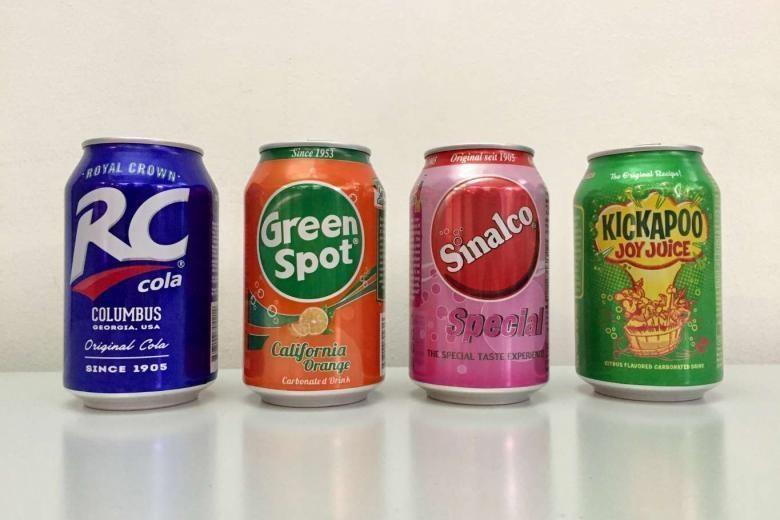tin can: (61, 134, 221, 410), (572, 141, 725, 401), (241, 139, 387, 408), (407, 139, 553, 405)
